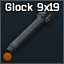Glock 9x19 Lone Wolf threaded barrel: (0, 0, 64, 64)
